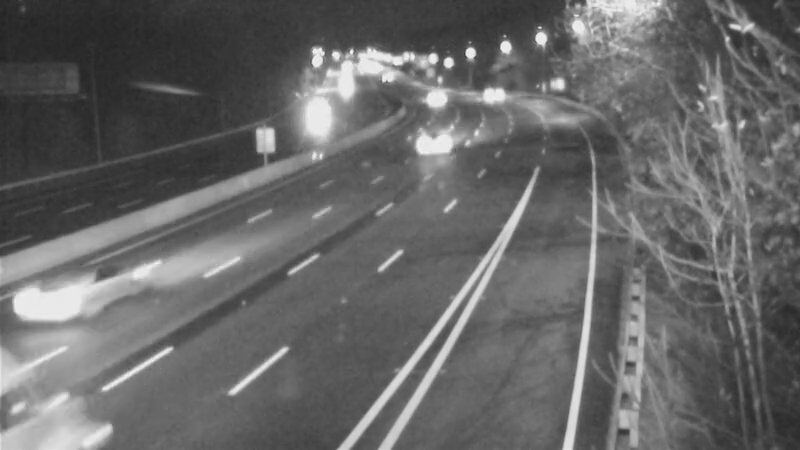vehicle: (13, 256, 93, 336), (469, 66, 519, 116), (403, 72, 453, 122), (406, 122, 456, 172), (294, 89, 344, 139)
